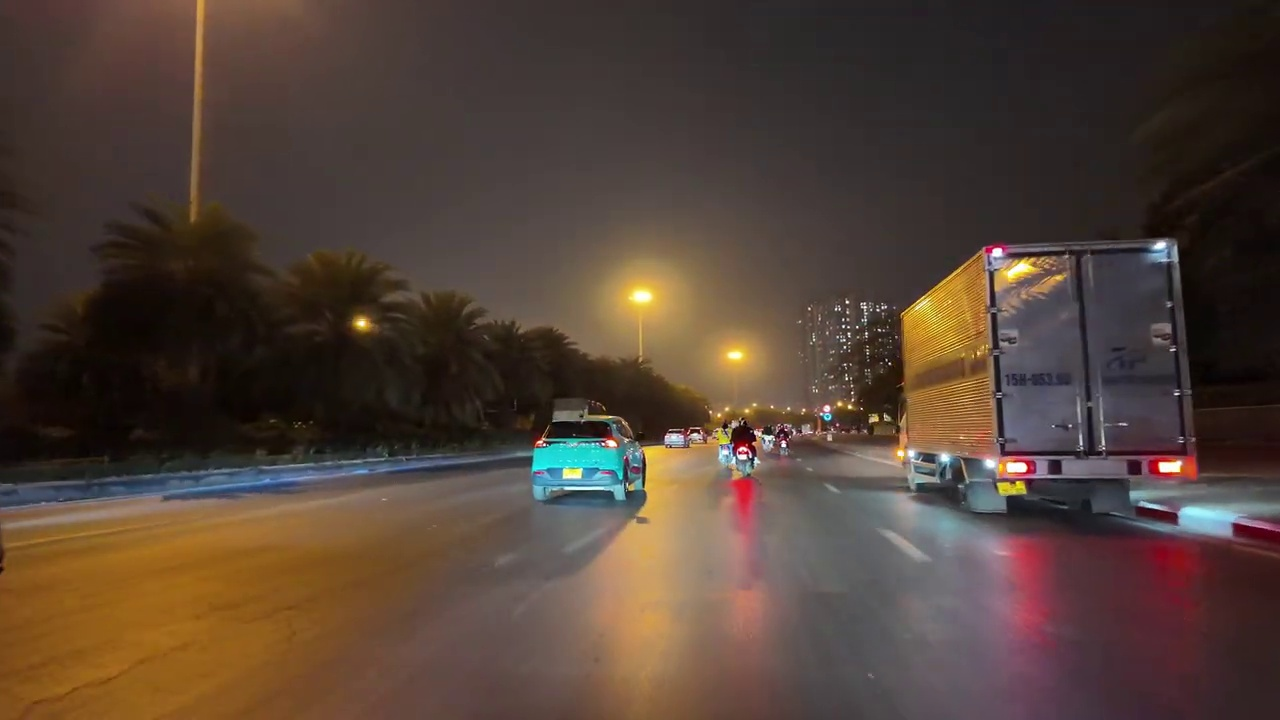acesa: (623, 279, 663, 317), (720, 342, 753, 371)
